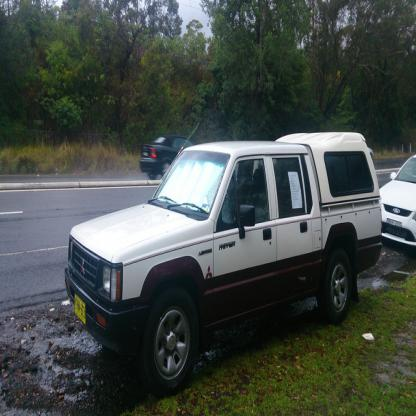Car: (379, 155, 416, 251), (138, 134, 195, 175)
